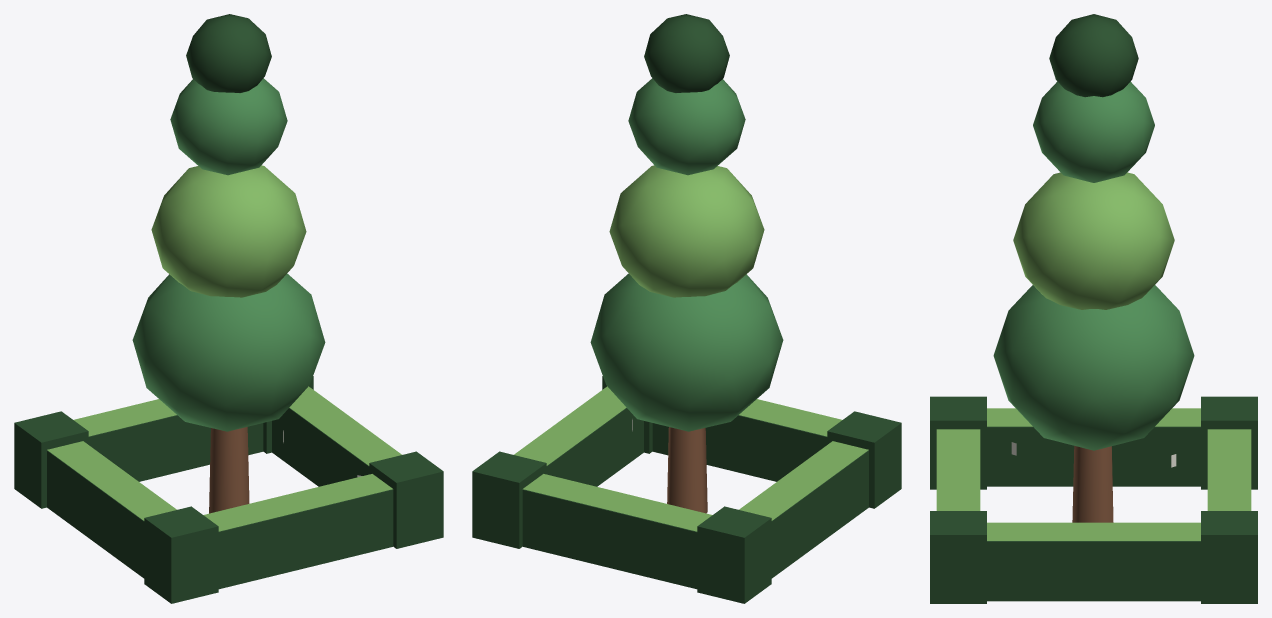
The model's file is garden-topiary.glb.
The picture shows the model from 3 angles, left to right: view 1: azimuth 30°, elevation 25°; view 2: azimuth 150°, elevation 25°; view 3: azimuth 270°, elevation 25°; orthographic projection. The views are drawn at different scales.
Visible parts, largest first — view 1: Merged_foliage-deep, Merged_foliage, Merged_foliage-light, Merged_bark; view 2: Merged_foliage-deep, Merged_foliage, Merged_foliage-light, Merged_bark; view 3: Merged_foliage-deep, Merged_foliage, Merged_foliage-light, Merged_bark.
Boxes of the visible parts, x1=… form: Merged_foliage-deep: x1=14, y1=14, x2=443, y2=603; Merged_foliage: x1=132, y1=78, x2=325, y2=431; Merged_foliage-light: x1=47, y1=165, x2=401, y2=531; Merged_bark: x1=209, y1=427, x2=249, y2=513; Merged_foliage-deep: x1=472, y1=14, x2=901, y2=603; Merged_foliage: x1=590, y1=78, x2=783, y2=431; Merged_foliage-light: x1=514, y1=165, x2=868, y2=531; Merged_bark: x1=667, y1=427, x2=707, y2=513; Merged_foliage-deep: x1=930, y1=14, x2=1257, y2=603; Merged_foliage: x1=993, y1=81, x2=1194, y2=450; Merged_foliage-light: x1=936, y1=172, x2=1251, y2=540; Merged_bark: x1=1072, y1=446, x2=1113, y2=522.
Size of what is drawn, in the model's own units: 2.17 by 3.79 by 2.17.
